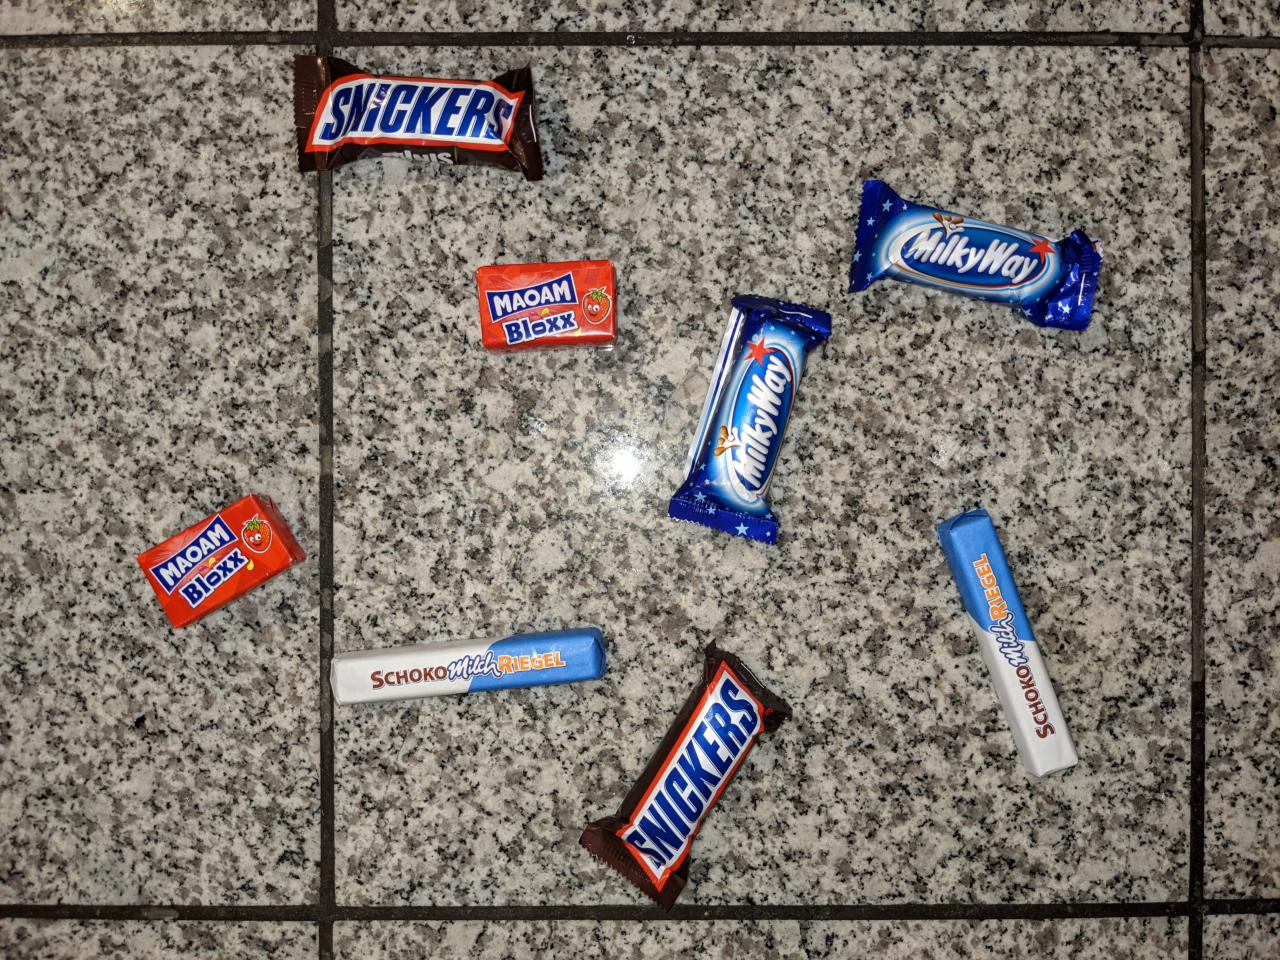MAOAM: (133, 486, 314, 634), (470, 257, 623, 360)
MilkyWay: (664, 290, 838, 551), (843, 174, 1106, 338)
Schokoriegel: (930, 504, 1085, 782), (324, 623, 613, 712)
Snickers: (575, 634, 800, 915), (285, 50, 552, 187)
